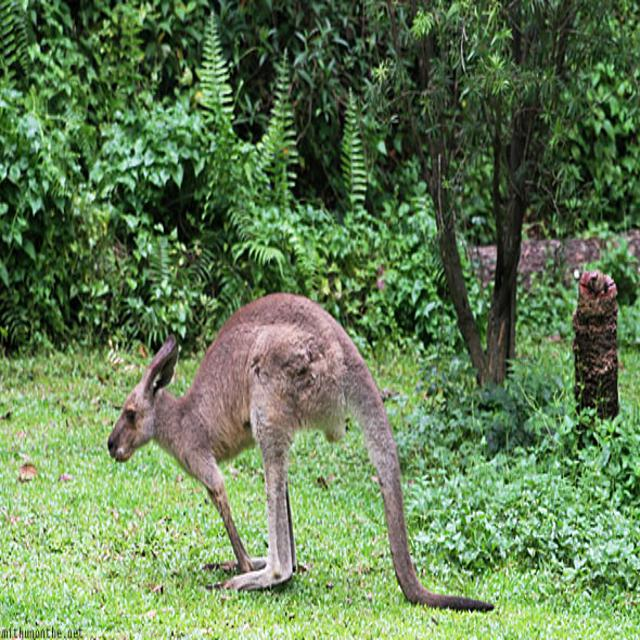kangaroo: (97, 284, 383, 596)
